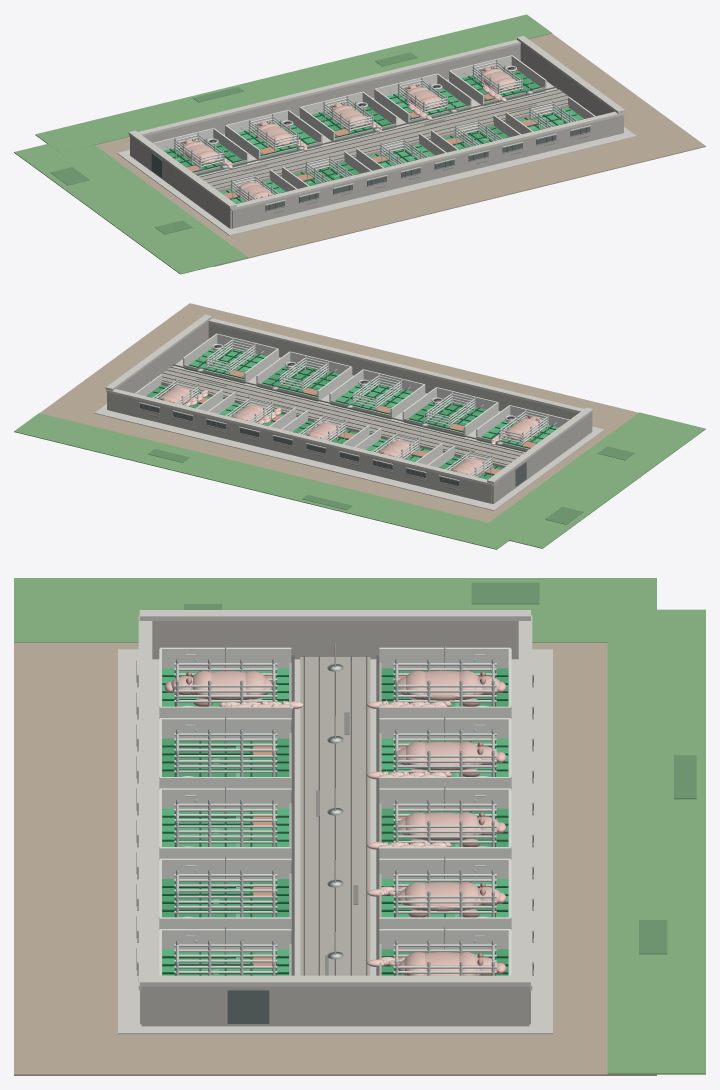
Rendered from maternidad.glb.
The picture shows the model from 3 angles, top to bottom: view 1: azimuth 30°, elevation 25°; view 2: azimuth 150°, elevation 25°; view 3: azimuth 270°, elevation 25°; orthographic projection. The views are drawn at different scales.
Visible parts, largest first — view 1: dirt-yard, grass-back, grass-left, front-wall, central-walkway, concrete-slab, back-wall, top-wall-cap-front, top-wall-cap-back, left-end-wall, right-end-wall, top-wall-cap-left (+21 smaller); view 2: dirt-yard, grass-back, grass-left, back-wall, central-walkway, concrete-slab, front-wall, top-wall-cap-back, top-wall-cap-front, left-end-wall, right-end-wall, top-wall-cap-right (+24 smaller); view 3: dirt-yard, grass-back, grass-left, central-walkway, concrete-slab, right-end-wall, left-end-wall, inside-floor, top-wall-cap-front, top-wall-cap-back, top-wall-cap-right, top-wall-cap-left (+38 smaller).
Part boxes in pixels (x1,y1,x2,y2): dirt-yard: (95, 33, 705, 266); grass-back: (35, 14, 552, 152); grass-left: (14, 144, 247, 274); front-wall: (232, 115, 622, 228); central-walkway: (200, 89, 568, 189); concrete-slab: (117, 127, 636, 235); back-wall: (144, 44, 520, 142); top-wall-cap-front: (230, 111, 624, 210); top-wall-cap-back: (129, 39, 520, 136); left-end-wall: (130, 136, 231, 228); right-end-wall: (520, 43, 623, 132); top-wall-cap-left: (128, 130, 236, 208); dirt-yard: (40, 303, 638, 541); grass-back: (14, 413, 521, 549); grass-left: (489, 412, 705, 548); back-wall: (108, 393, 491, 503); central-walkway: (161, 366, 523, 465); concrete-slab: (94, 404, 604, 510); front-wall: (208, 323, 578, 419); top-wall-cap-back: (106, 389, 493, 486); top-wall-cap-front: (208, 318, 592, 412); left-end-wall: (491, 412, 592, 503); right-end-wall: (107, 321, 208, 409); top-wall-cap-right: (105, 314, 211, 390); dirt-yard: (14, 642, 656, 1075); grass-back: (607, 609, 705, 1074); grass-left: (14, 578, 656, 642); central-walkway: (300, 657, 370, 975); concrete-slab: (118, 649, 552, 1034); right-end-wall: (141, 986, 529, 1026); left-end-wall: (152, 621, 518, 659); inside-floor: (152, 659, 518, 975); top-wall-cap-front: (138, 615, 152, 990); top-wall-cap-back: (518, 615, 532, 990); top-wall-cap-right: (139, 975, 530, 986); top-wall-cap-left: (139, 610, 530, 620).
Size of the model in its own units: 62 by 3.25 by 36.6.
